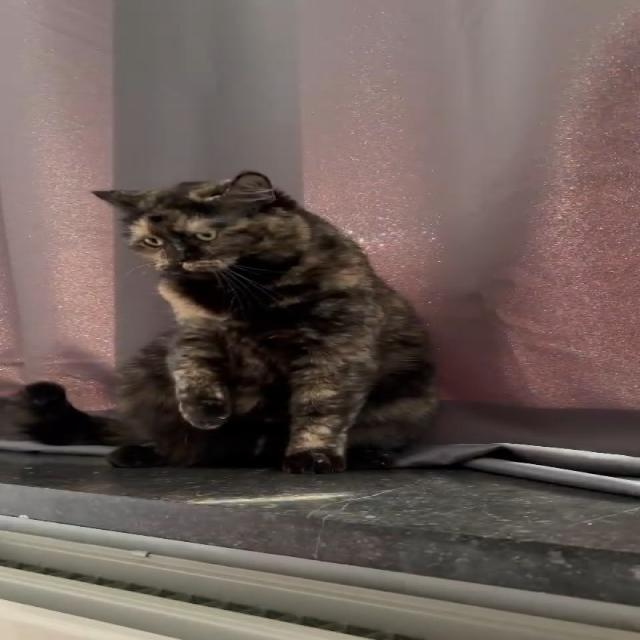authorized: (89, 170, 440, 475)
